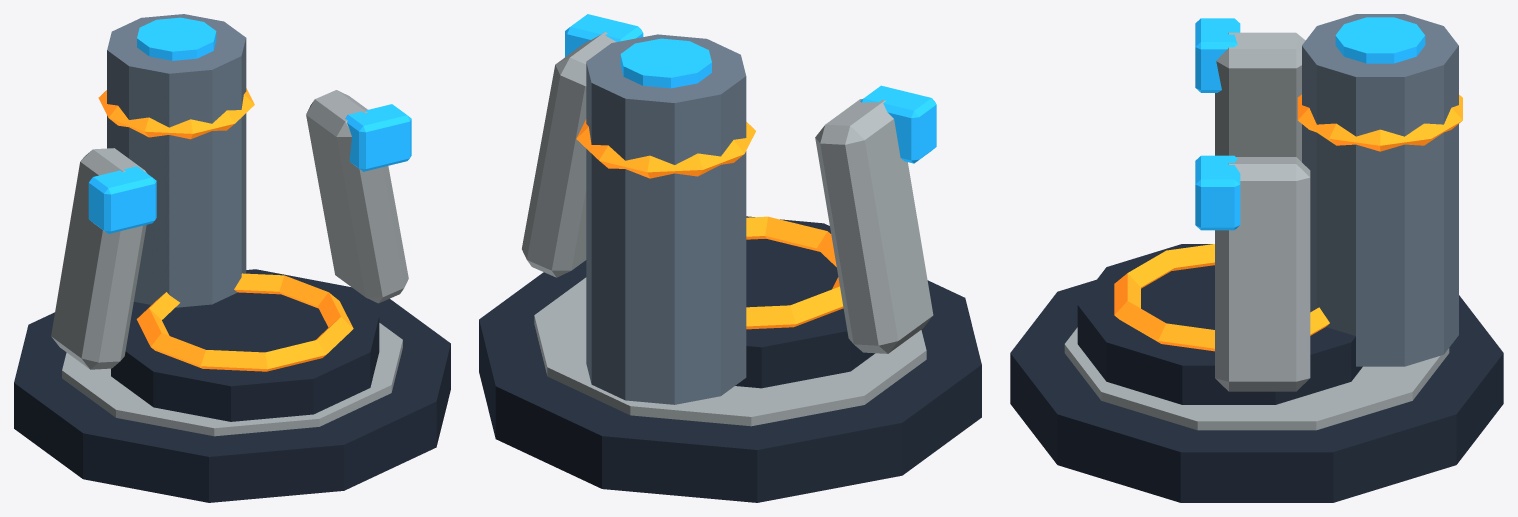
The model's file is charger.glb.
3 renders of one model, left to right at view 1: azimuth 30°, elevation 25°; view 2: azimuth 150°, elevation 25°; view 3: azimuth 270°, elevation 25°, orthographic. The views are drawn at different scales.
Parts seen in each view (by area): view 1: Hexagonal foundation, Reactor column, Induction pad, Docking arm.001, Docking arm, Ceramic foundation inset, Charging ring, Docking emitter, Docking emitter.001, Reactor core, Reactor collar; view 2: Reactor column, Hexagonal foundation, Docking arm, Ceramic foundation inset, Induction pad, Docking arm.001, Charging ring, Reactor core, Docking emitter, Reactor collar, Docking emitter.001; view 3: Reactor column, Hexagonal foundation, Docking arm.001, Induction pad, Ceramic foundation inset, Docking arm, Charging ring, Reactor core, Docking emitter.001, Reactor collar, Docking emitter.
Part boxes in pixels (x1=…): Hexagonal foundation: x1=14, y1=269, x2=450, y2=502; Reactor column: x1=107, y1=14, x2=246, y2=307; Induction pad: x1=111, y1=271, x2=379, y2=421; Docking arm.001: x1=306, y1=90, x2=408, y2=303; Docking arm: x1=51, y1=148, x2=147, y2=369; Ceramic foundation inset: x1=62, y1=323, x2=402, y2=436; Charging ring: x1=136, y1=273, x2=353, y2=371; Docking emitter: x1=88, y1=166, x2=156, y2=233; Docking emitter.001: x1=345, y1=104, x2=411, y2=171; Reactor core: x1=137, y1=17, x2=216, y2=60; Reactor collar: x1=98, y1=88, x2=254, y2=139; Reactor column: x1=586, y1=34, x2=746, y2=404; Hexagonal foundation: x1=479, y1=260, x2=981, y2=502; Docking arm: x1=815, y1=99, x2=933, y2=353; Ceramic foundation inset: x1=534, y1=277, x2=926, y2=426; Induction pad: x1=735, y1=216, x2=874, y2=388; Docking arm.001: x1=522, y1=32, x2=616, y2=277; Charging ring: x1=746, y1=216, x2=843, y2=329; Reactor core: x1=620, y1=38, x2=711, y2=88; Docking emitter: x1=860, y1=85, x2=936, y2=163; Reactor collar: x1=576, y1=119, x2=755, y2=178; Docking emitter.001: x1=565, y1=14, x2=643, y2=56; Reactor column: x1=1302, y1=14, x2=1458, y2=366; Hexagonal foundation: x1=1010, y1=279, x2=1503, y2=502; Docking arm.001: x1=1215, y1=157, x2=1310, y2=391; Induction pad: x1=1077, y1=244, x2=1362, y2=404; Ceramic foundation inset: x1=1064, y1=327, x2=1449, y2=430; Docking arm: x1=1215, y1=32, x2=1305, y2=161; Charging ring: x1=1114, y1=244, x2=1329, y2=351; Reactor core: x1=1335, y1=17, x2=1425, y2=63; Docking emitter.001: x1=1195, y1=155, x2=1240, y2=230; Reactor collar: x1=1297, y1=94, x2=1462, y2=151; Docking emitter: x1=1195, y1=18, x2=1240, y2=92.
Size of the model in its own units: 0.8369 by 0.725 by 0.88.
